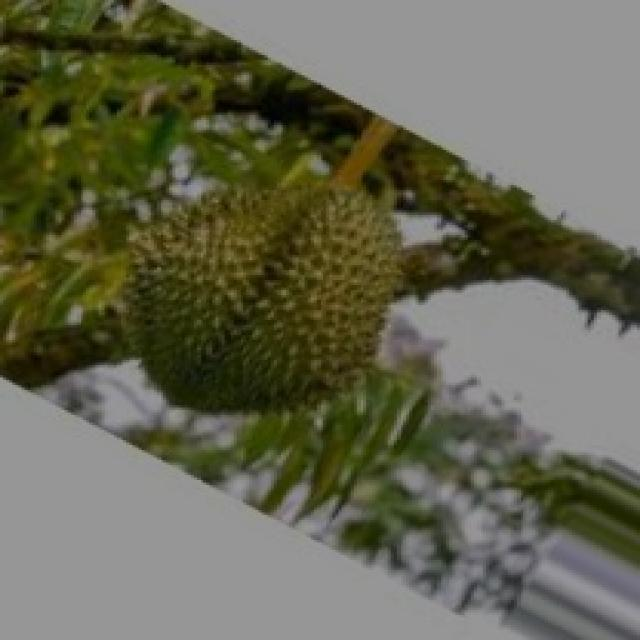fruit: (52, 128, 446, 472)
